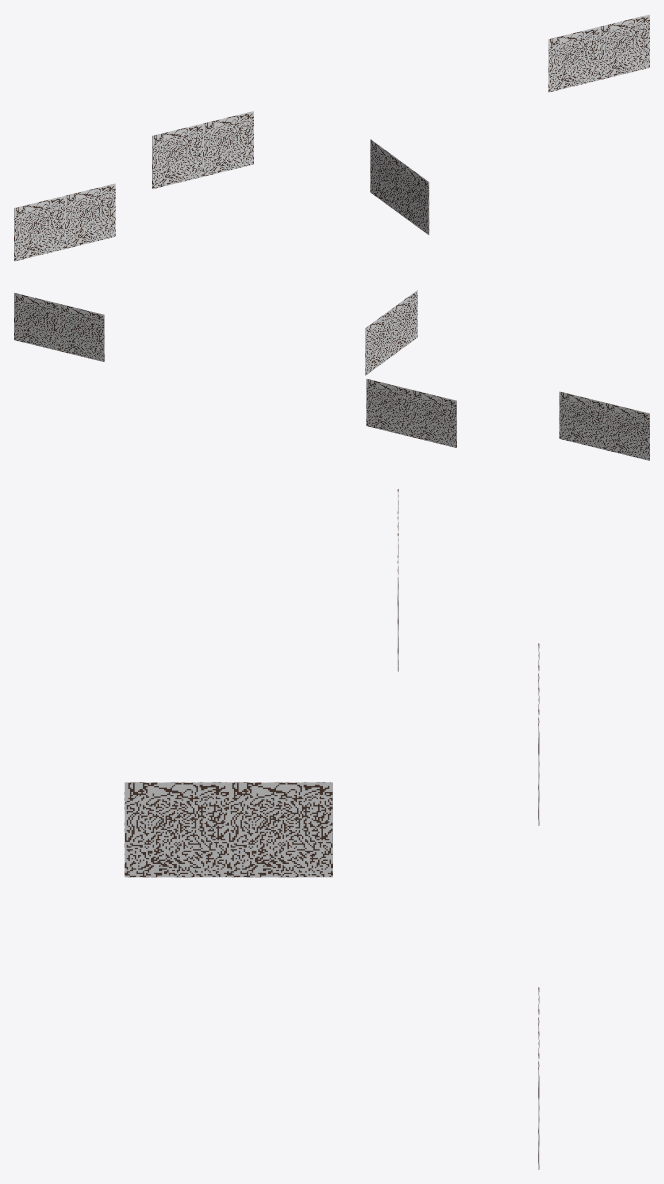
The model's file is dividers.obj.
The picture shows the model from 3 angles, top to bottom: view 1: azimuth 30°, elevation 25°; view 2: azimuth 150°, elevation 25°; view 3: azimuth 270°, elevation 25°; orthographic projection. The views are drawn at different scales.
Visible parts, largest first — view 1: Cube.043, Cube.046, Cube.057, Cube.037, Cube.042, Cube.059, Cube.055, Cube.056; view 2: Cube.043, Cube.037, Cube.042, Cube.057, Cube.059, Cube.046, Cube.056, Cube.055; view 3: Cube.055, Cube.056.
Boxes of the visible parts, x1,y1,x2,y2 form: Cube.043: [548, 27, 599, 92]; Cube.046: [599, 14, 649, 79]; Cube.057: [14, 196, 64, 261]; Cube.037: [152, 123, 202, 188]; Cube.042: [203, 111, 253, 176]; Cube.059: [65, 183, 115, 248]; Cube.055: [399, 161, 429, 234]; Cube.056: [370, 139, 399, 213]; Cube.043: [59, 303, 104, 361]; Cube.037: [411, 389, 456, 447]; Cube.042: [366, 378, 411, 436]; Cube.057: [604, 402, 649, 460]; Cube.059: [559, 391, 604, 449]; Cube.046: [14, 292, 58, 350]; Cube.056: [365, 309, 391, 375]; Cube.055: [391, 290, 417, 355]; Cube.055: [124, 782, 228, 877]; Cube.056: [228, 782, 332, 877].
Bounding box in the file's own units: 46.56 × 3.5 × 13.92.
1 material, 1 textured.
